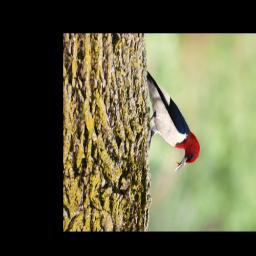Woodpecker: (147, 72, 201, 170)
